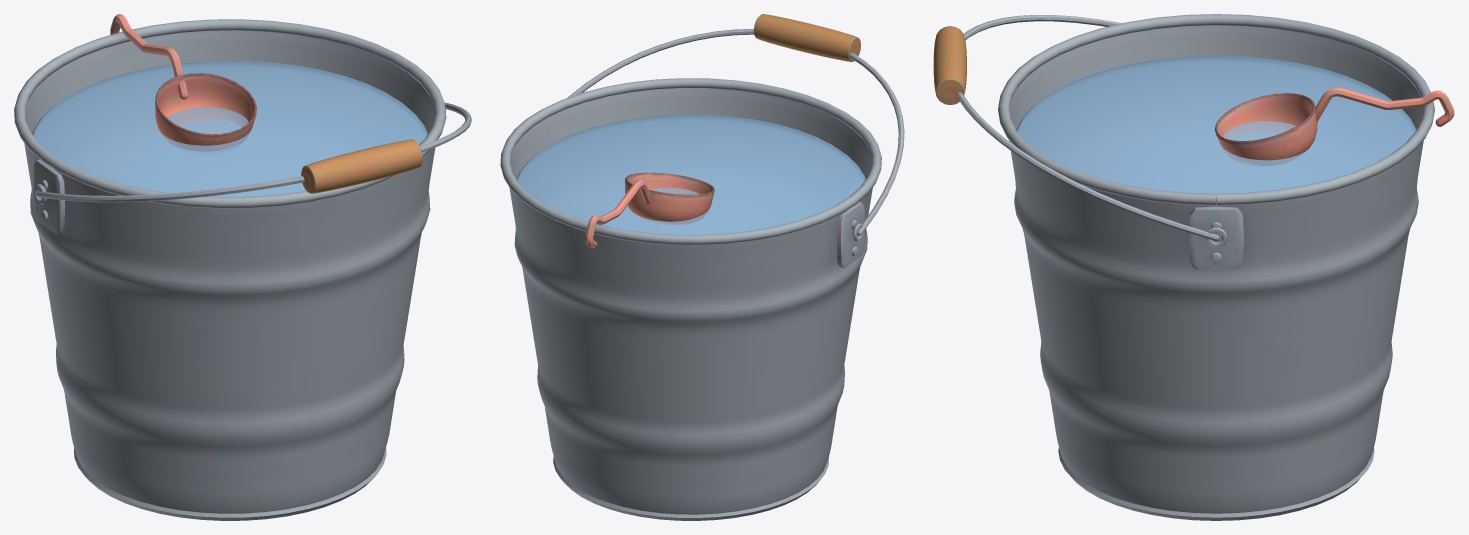
File: bucket.glb
3 views of the same model, side by side, from view 1: azimuth 30°, elevation 25°; view 2: azimuth 150°, elevation 25°; view 3: azimuth 270°, elevation 25° (orthographic). The views are drawn at different scales.
Visible parts, largest first — view 1: bucket_body, bucket_water; view 2: bucket_body, bucket_water; view 3: bucket_body, bucket_water.
Boxes of the visible parts, <box> form: bucket_body: <box>14,14,471,520</box>; bucket_water: <box>32,60,427,196</box>; bucket_body: <box>500,14,904,520</box>; bucket_water: <box>516,114,865,234</box>; bucket_body: <box>933,14,1454,520</box>; bucket_water: <box>1016,55,1416,193</box>.
Bounding box in the file's own units: 0.3226 × 0.3198 × 0.3723.
2 materials, 1 textured.
